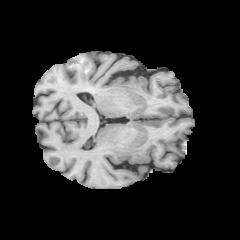glioma: (62, 53, 96, 84)
